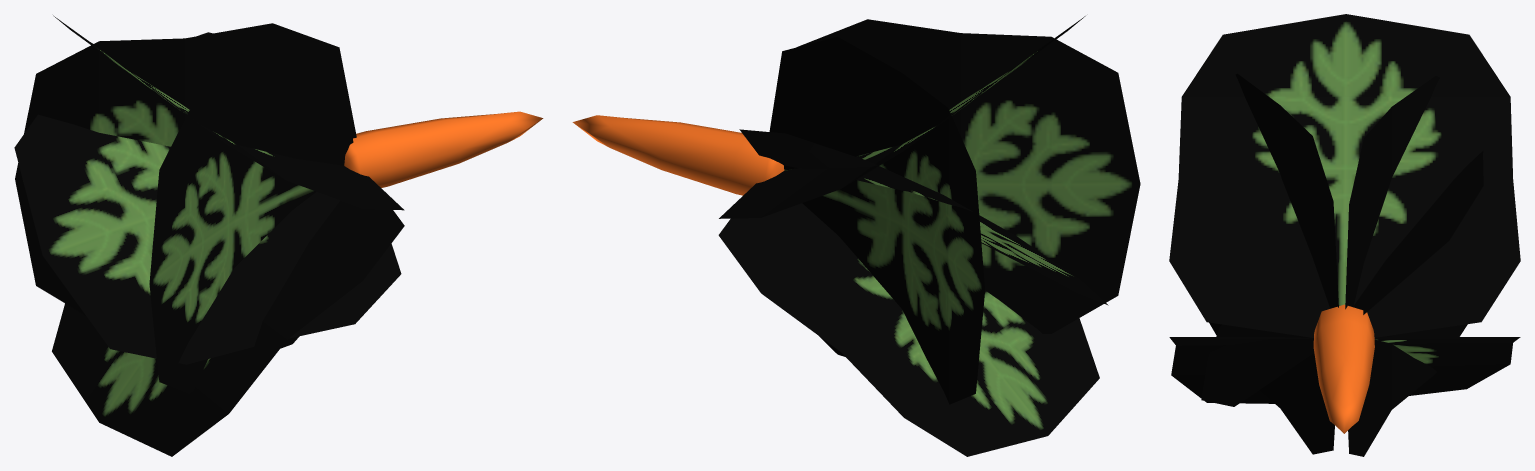
Rendered from Carrot_Drop.fbx.
3 renders of one model, left to right at view 1: azimuth 30°, elevation 25°; view 2: azimuth 150°, elevation 25°; view 3: azimuth 270°, elevation 25°, orthographic. The views are drawn at different scales.
Visible parts, largest first — view 1: Leaves, Carrot; view 2: Leaves, Carrot; view 3: Leaves, Carrot.
Boxes of the visible parts, x1,y1,x2,y2 form: Leaves: (14, 15, 404, 456); Carrot: (344, 111, 543, 187); Leaves: (718, 16, 1140, 456); Carrot: (572, 115, 784, 195); Leaves: (1169, 14, 1520, 456); Carrot: (1313, 304, 1374, 433).
Bounding box in the file's own units: 1.72 × 1.24 × 1.01.
